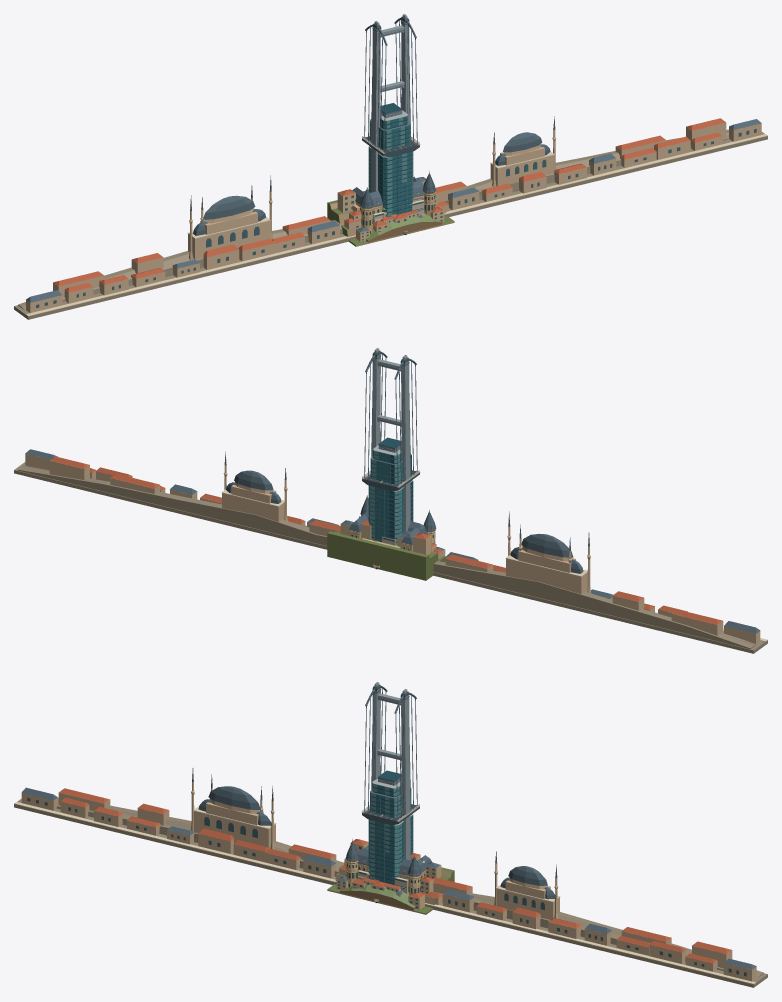
Rendered from paket.glb.
3 views of the same model, one above another, from view 1: azimuth 30°, elevation 25°; view 2: azimuth 150°, elevation 25°; view 3: azimuth 330°, elevation 25° (orthographic).
Visible parts, largest first — view 1: uzak_karsi_kiyi (×2), bogaz_koprusu_parca (×2), bina_atasehir_kule, uzak_yamac_evler, haydarpasa_gari, tepe_korusu; view 2: uzak_karsi_kiyi (×2), bogaz_koprusu_parca (×2), uzak_yamac_evler, bina_atasehir_kule, haydarpasa_gari; view 3: uzak_karsi_kiyi (×2), bogaz_koprusu_parca (×2), bina_atasehir_kule (×2), uzak_yamac_evler, haydarpasa_gari, tepe_korusu.
Part boxes in pixels (box(x1,y1,x2,y2)): uzak_karsi_kiyi (×2): box(14, 116, 767, 319); bogaz_koprusu_parca (×2): box(362, 14, 420, 192); bina_atasehir_kule: box(368, 103, 413, 216); uzak_yamac_evler: box(327, 177, 454, 246); haydarpasa_gari: box(352, 171, 435, 232); tepe_korusu: box(366, 203, 442, 242); uzak_karsi_kiyi (×2): box(14, 449, 767, 653); bogaz_koprusu_parca (×2): box(362, 348, 420, 531); uzak_yamac_evler: box(327, 520, 445, 580); bina_atasehir_kule: box(368, 437, 413, 545); haydarpasa_gari: box(348, 495, 436, 551); uzak_karsi_kiyi (×2): box(14, 768, 767, 987); bogaz_koprusu_parca (×2): box(361, 682, 419, 860); bina_atasehir_kule (×2): box(368, 770, 413, 884); uzak_yamac_evler: box(327, 839, 454, 914); haydarpasa_gari: box(345, 839, 431, 894); tepe_korusu: box(339, 868, 415, 910).
Size of the model in its own units: 600 by 162 by 45.
